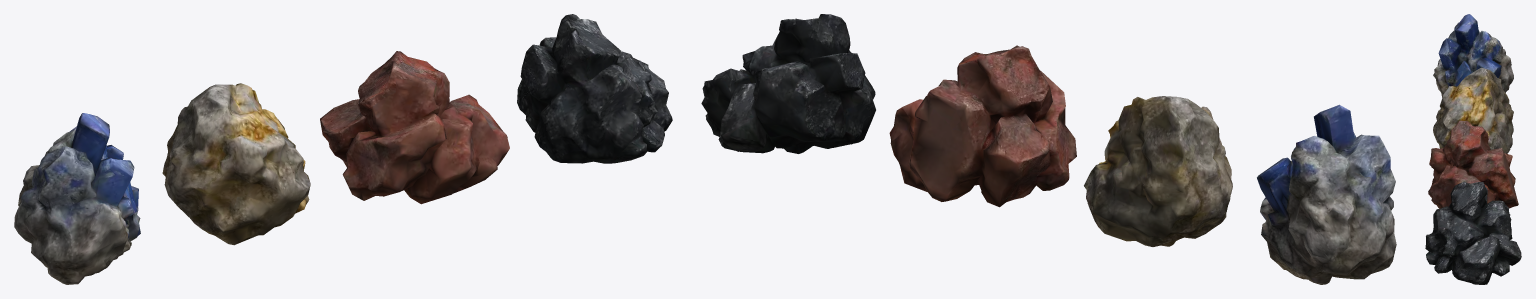
The model's file is rocks_ore.glb.
3 renders of one model, left to right at view 1: azimuth 30°, elevation 25°; view 2: azimuth 150°, elevation 25°; view 3: azimuth 270°, elevation 25°, orthographic. The views are drawn at different scales.
Parts seen in each view (by area): view 1: iron, gold, coal, crystal_blue; view 2: iron, crystal_blue, coal, gold; view 3: coal, iron, gold, crystal_blue.
Part boxes in pixels (box(x1,y1,x2,y2)): iron: box(320, 51, 509, 204); gold: box(162, 83, 310, 245); coal: box(517, 14, 672, 163); crystal_blue: box(14, 113, 140, 284); iron: box(889, 45, 1076, 207); crystal_blue: box(1257, 104, 1396, 284); coal: box(701, 14, 875, 153); gold: box(1084, 96, 1232, 246); coal: box(1425, 181, 1521, 284); iron: box(1428, 120, 1518, 208); gold: box(1433, 67, 1513, 153); crystal_blue: box(1433, 14, 1513, 97).
Size of the model in its own units: 1.19 by 0.2801 by 0.2508.
Materials: 1 (1 with a texture image).
